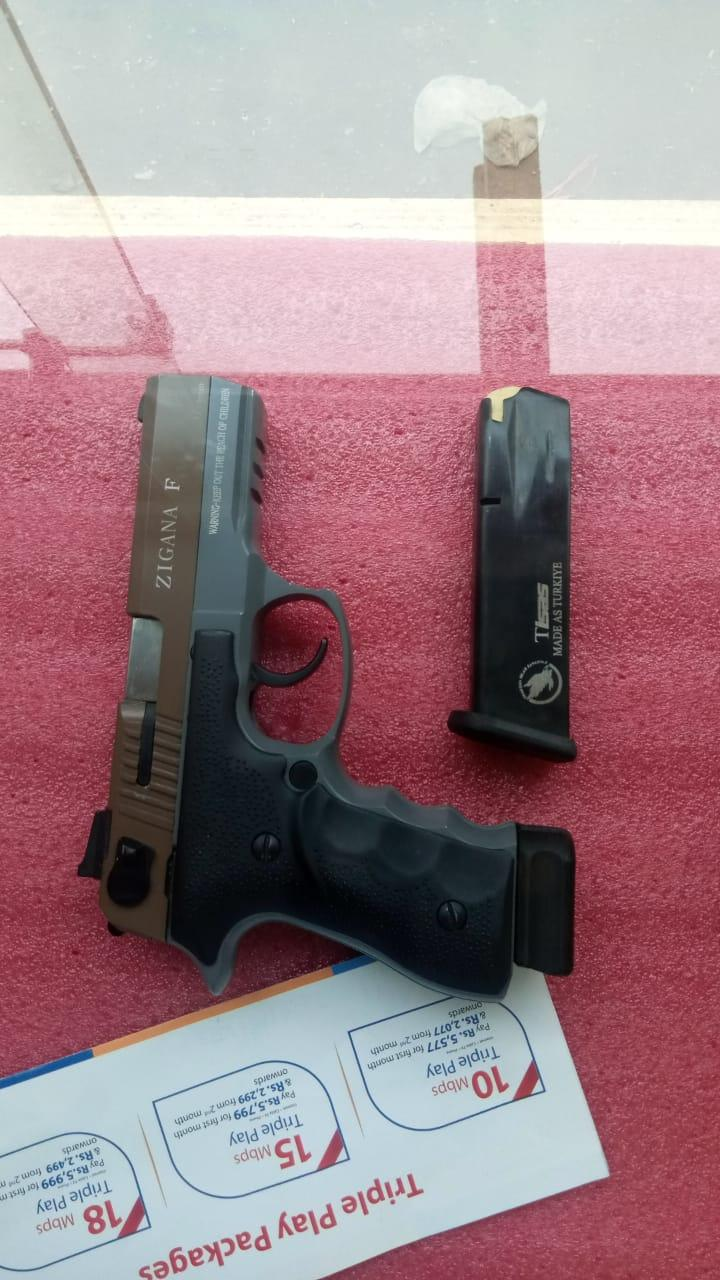weapon: (77, 378, 576, 998)
